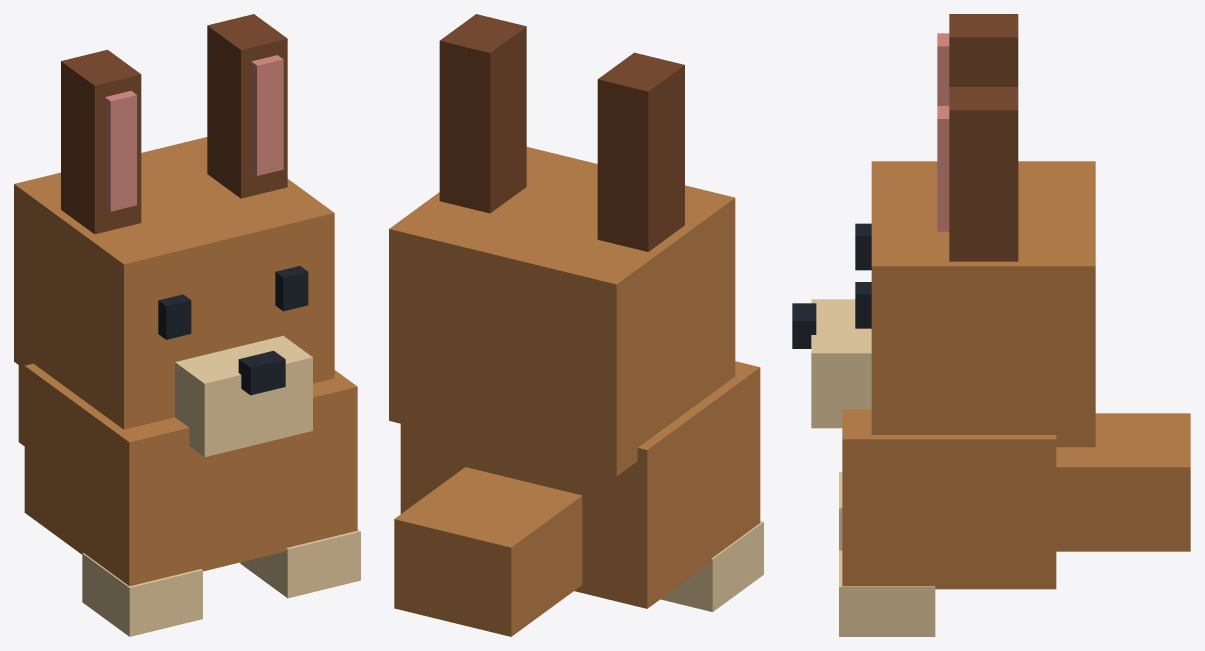
File: nova_fox.obj
3 renders of one model, left to right at view 1: azimuth 30°, elevation 25°; view 2: azimuth 150°, elevation 25°; view 3: azimuth 270°, elevation 25°, orthographic. The views are drawn at different scales.
Bounding box in the file's own units: 0.79 × 1.65 × 1.16.
